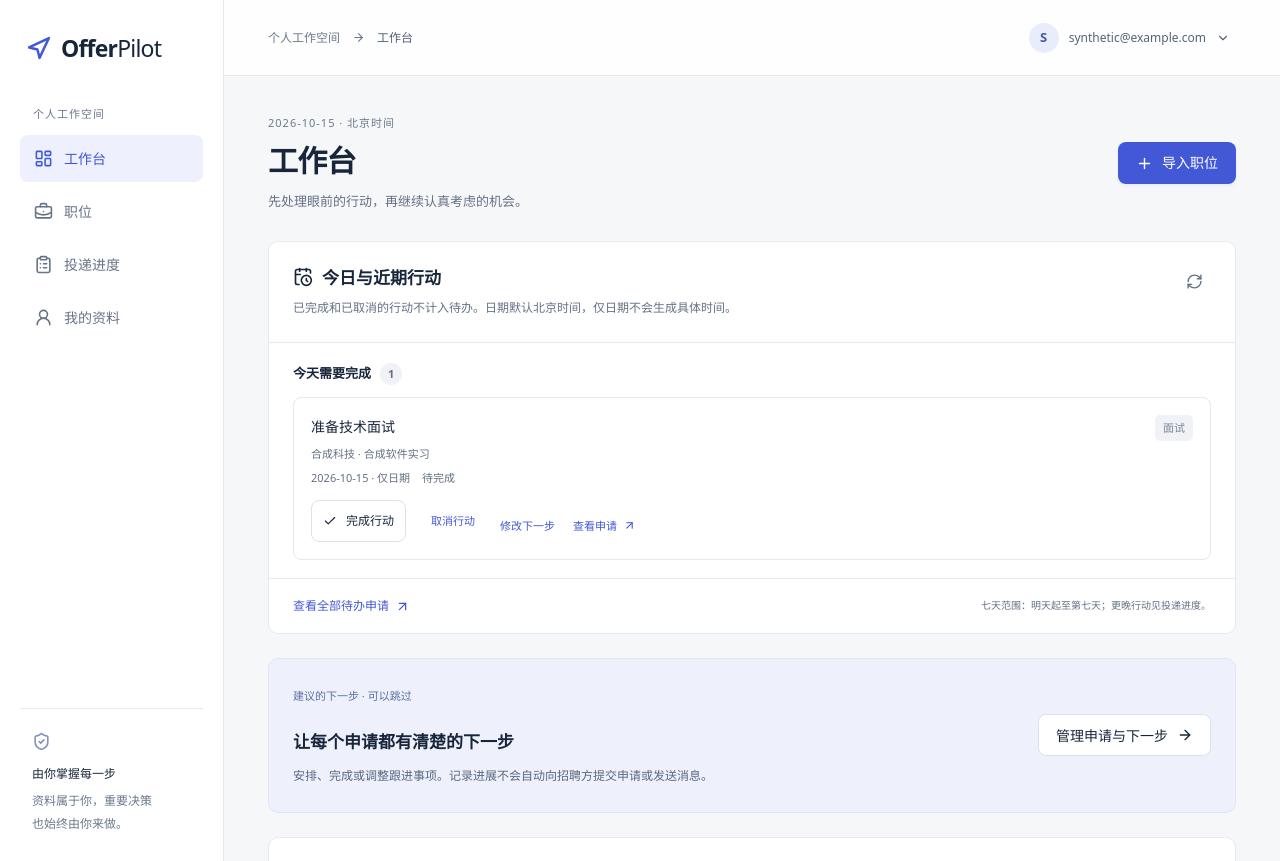
completes using the shown revision, preserves unrelated fields and refreshes all server groups
Click the button "完成行动".
click(358, 521)  # box left=311, top=500, right=406, bottom=542
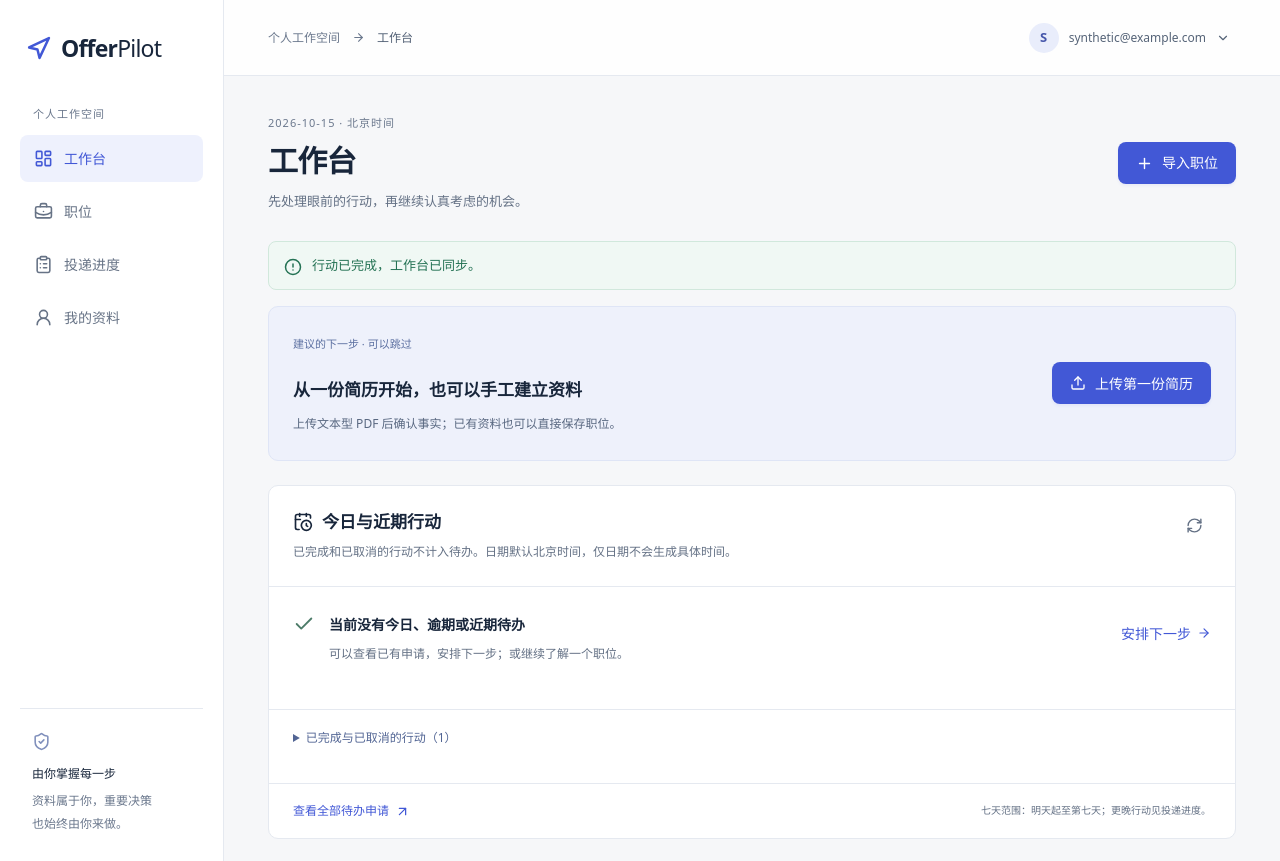
Now the text "行动已完成，工作台已同步。" is shown, box left=312, top=255, right=481, bottom=276
Now the heading "今天需要完成" is gone
Click the heading "已完成与已取消的行动（1）".
click(381, 737)  # box left=306, top=729, right=457, bottom=746
(page scrolled)
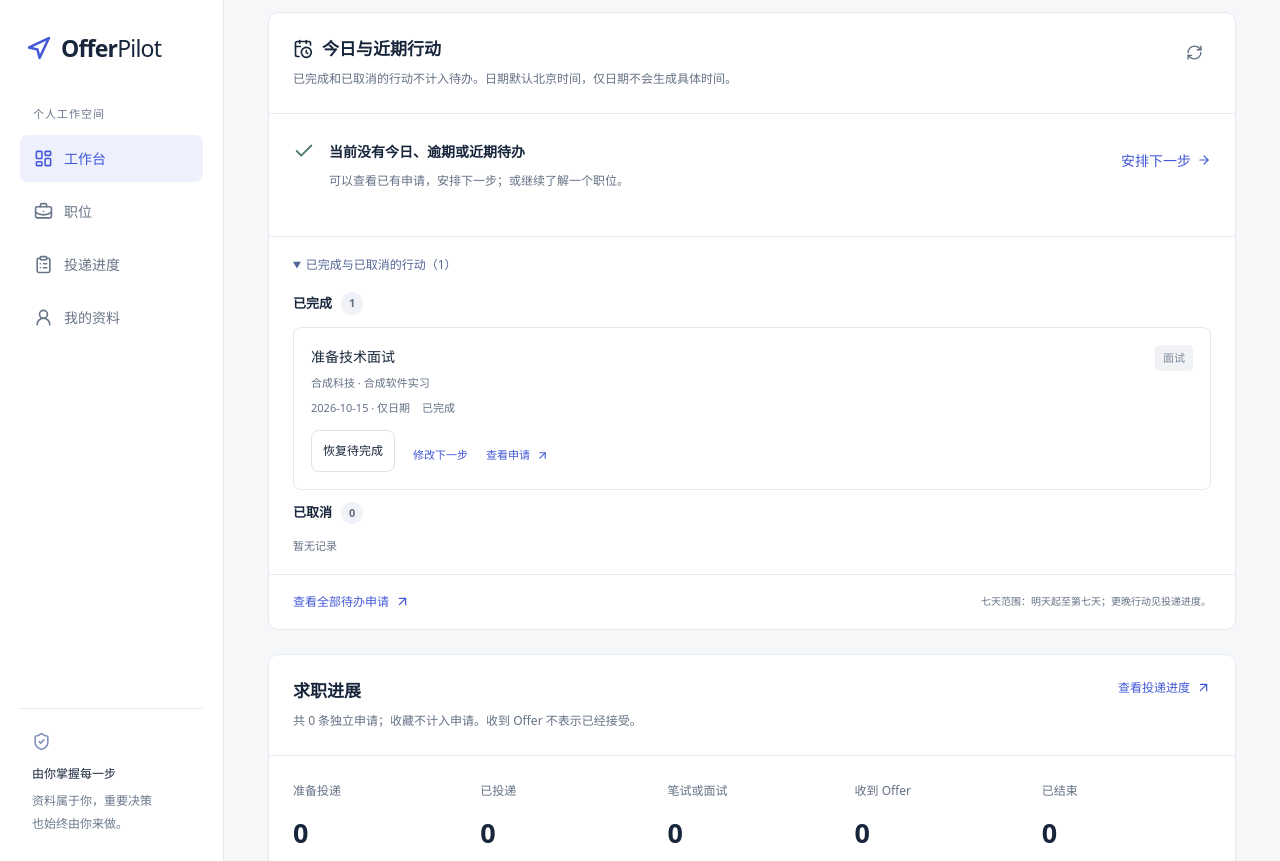
Now the button "恢复待完成" is shown, box left=311, top=430, right=395, bottom=472
